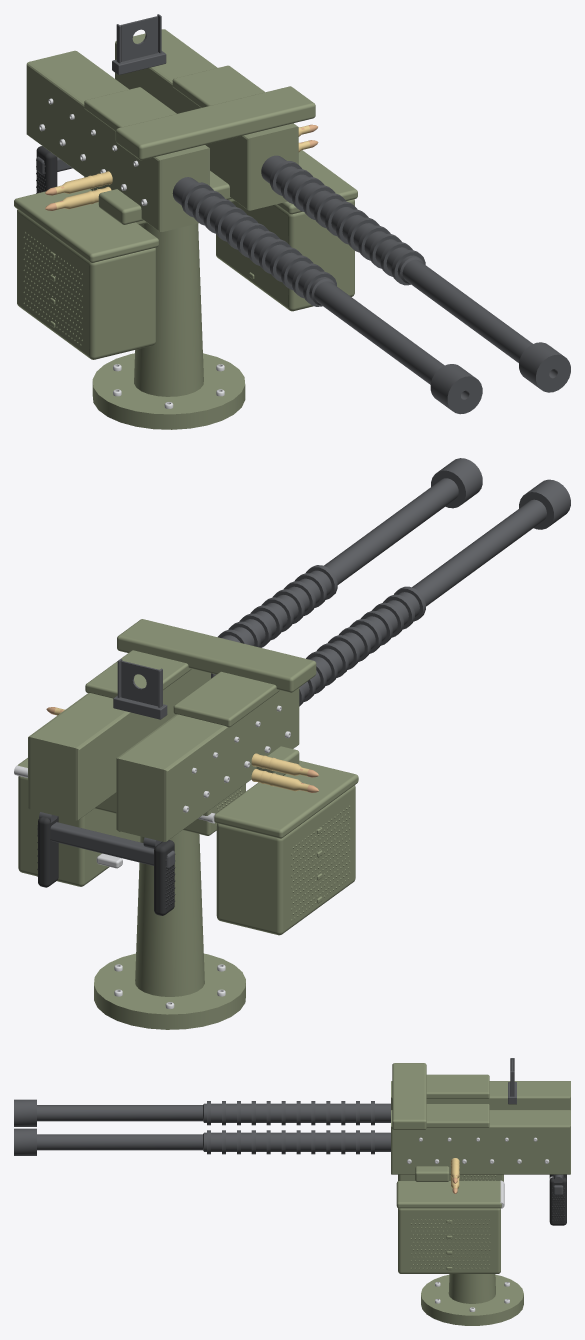
Rendered from mega-weapon-pack-mounted-twin-gun-dbad2016__33347.glb.
3 renders of one model, top to bottom at view 1: azimuth 30°, elevation 25°; view 2: azimuth 150°, elevation 25°; view 3: azimuth 270°, elevation 25°, orthographic. The views are drawn at different scales.
Visible parts, largest first — view 1: mounted-twin-gun; view 2: mounted-twin-gun; view 3: mounted-twin-gun.
Boxes of the visible parts, x1=… form: mounted-twin-gun: x1=14, y1=14, x2=570, y2=429; mounted-twin-gun: x1=14, y1=458, x2=570, y2=1029; mounted-twin-gun: x1=14, y1=1058, x2=570, y2=1325.
Bounding box in the file's own units: 0.3714 × 0.4612 × 0.972.
